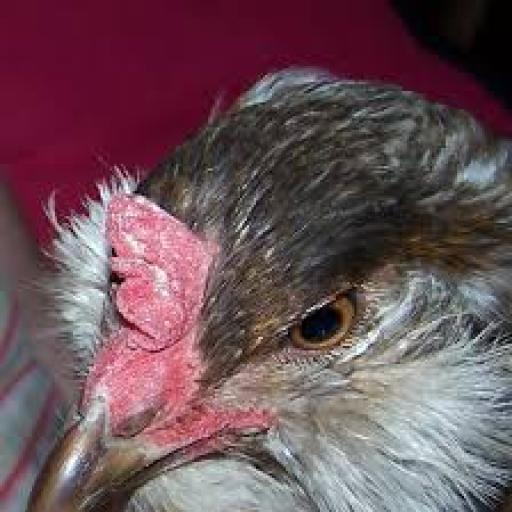disease: (107, 173, 207, 433)
